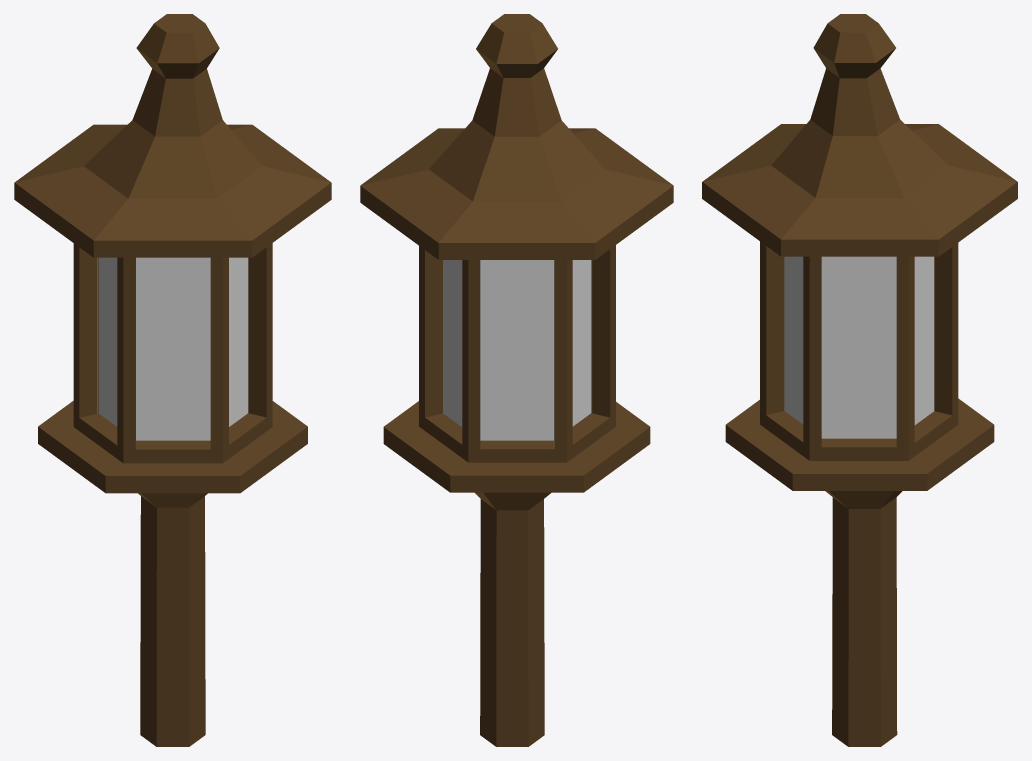
The model's file is lamp.fbx.
3 views of the same model, side by side, from view 1: azimuth 30°, elevation 25°; view 2: azimuth 150°, elevation 25°; view 3: azimuth 270°, elevation 25° (orthographic).
Visible parts, largest first — view 1: lamp; view 2: lamp; view 3: lamp.
Boxes of the visible parts, left/top/right/bottom form: lamp: left=14, top=14, right=331, bottom=746; lamp: left=360, top=14, right=673, bottom=746; lamp: left=702, top=14, right=1017, bottom=746.
Size of the model in its own units: 57.86 by 166 by 66.81.
